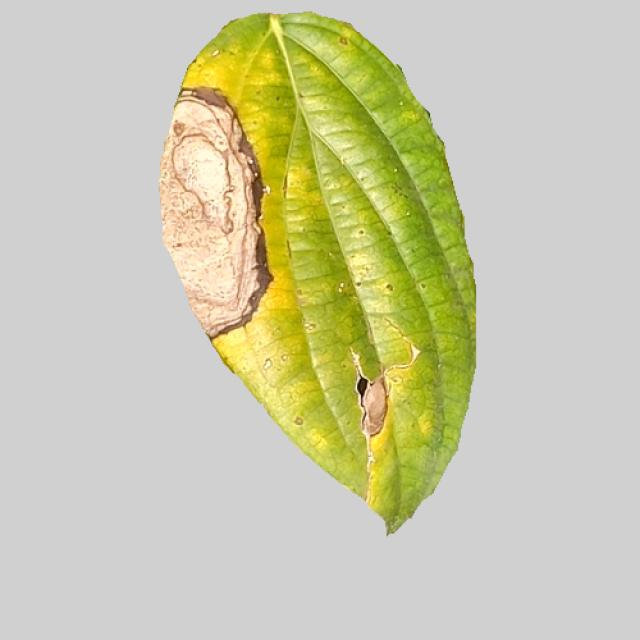leaf-blight: (114, 23, 493, 552)
